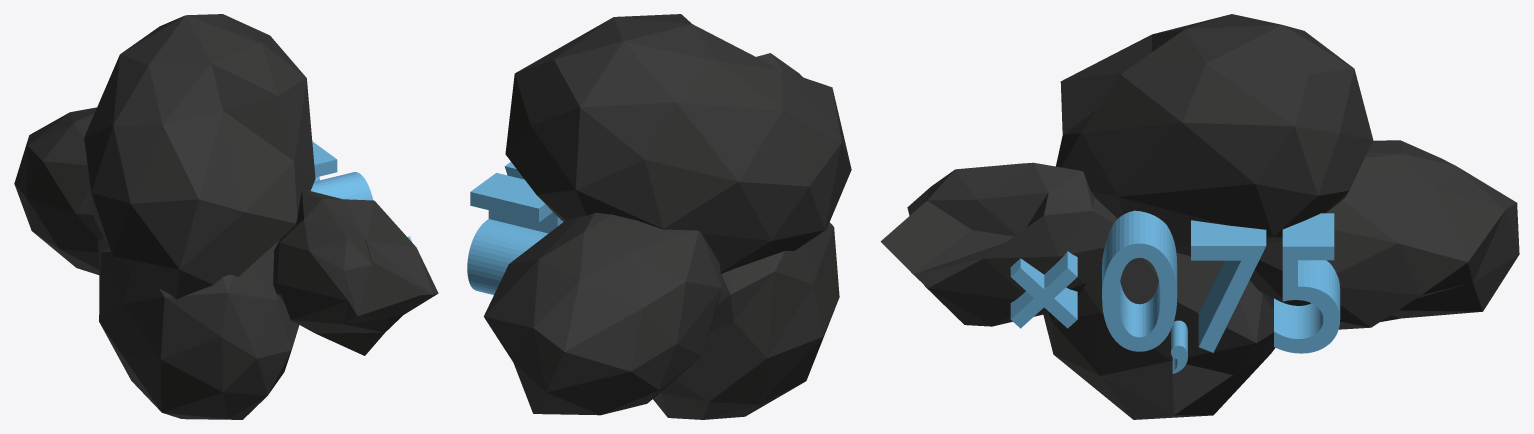
3 views of the same model, side by side, from view 1: azimuth 30°, elevation 25°; view 2: azimuth 150°, elevation 25°; view 3: azimuth 270°, elevation 25° (orthographic). The views are drawn at different scales.
Visible parts, largest first — view 1: Icosphere.187, Text.075, Text.076; view 2: Icosphere.187, Text.077; view 3: Icosphere.187, Text.075, Text.077, Text.076, Text.095, Text.078.
Boxes of the visible parts, left/top/right/bottom form: Icosphere.187: left=14, top=14, right=438, bottom=419; Text.075: left=311, top=172, right=372, bottom=200; Text.076: left=312, top=141, right=337, bottom=181; Icosphere.187: left=483, top=14, right=851, bottom=419; Text.077: left=467, top=173, right=562, bottom=294; Icosphere.187: left=880, top=14, right=1519, bottom=419; Text.075: left=1102, top=210, right=1177, bottom=351; Text.077: left=1274, top=213, right=1340, bottom=353; Text.076: left=1191, top=220, right=1266, bottom=352; Text.095: left=1010, top=251, right=1077, bottom=328; Text.078: left=1171, top=320, right=1187, bottom=373.
Size of the model in its own units: 52.69 by 74.39 by 108.
